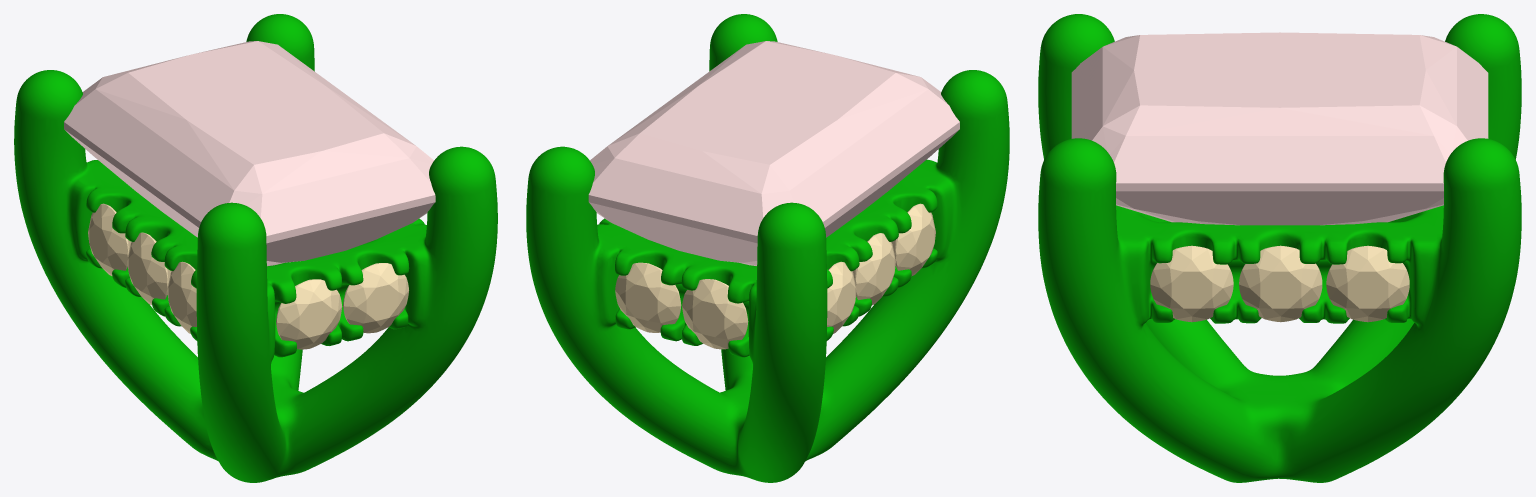
3 views of the same model, side by side, from view 1: azimuth 30°, elevation 25°; view 2: azimuth 150°, elevation 25°; view 3: azimuth 270°, elevation 25° (orthographic). The views are drawn at different scales.
Parts seen in each view (by area): view 1: Metal01, Diamond_Radiant, Diamond_Round.008, Diamond_Round.009, Diamond_Round.004, Diamond_Round.005, Diamond_Round.003; view 2: Metal01, Diamond_Radiant, Diamond_Round.007, Diamond_Round.006, Diamond_Round.003, Diamond_Round.004, Diamond_Round.005; view 3: Metal01, Diamond_Radiant, Diamond_Round.001, Diamond_Round.002, Diamond_Round.
Part boxes in pixels (x1=…): Metal01: x1=14, y1=14, x2=497, y2=482; Diamond_Radiant: x1=64, y1=41, x2=435, y2=266; Diamond_Round.008: x1=343, y1=263, x2=408, y2=333; Diamond_Round.009: x1=276, y1=279, x2=342, y2=349; Diamond_Round.004: x1=127, y1=232, x2=171, y2=304; Diamond_Round.005: x1=88, y1=203, x2=131, y2=275; Diamond_Round.003: x1=167, y1=261, x2=196, y2=333; Metal01: x1=526, y1=14, x2=1009, y2=482; Diamond_Radiant: x1=588, y1=41, x2=959, y2=265; Diamond_Round.007: x1=615, y1=262, x2=681, y2=332; Diamond_Round.006: x1=682, y1=279, x2=748, y2=349; Diamond_Round.003: x1=891, y1=203, x2=935, y2=276; Diamond_Round.004: x1=852, y1=233, x2=895, y2=305; Diamond_Round.005: x1=827, y1=261, x2=856, y2=333; Metal01: x1=1038, y1=14, x2=1521, y2=482; Diamond_Radiant: x1=1071, y1=32, x2=1488, y2=225; Diamond_Round.001: x1=1239, y1=245, x2=1322, y2=322; Diamond_Round.002: x1=1150, y1=245, x2=1233, y2=322; Diamond_Round: x1=1326, y1=245, x2=1409, y2=322.
Size of the model in its own units: 4.93 by 5.78 by 6.38.
